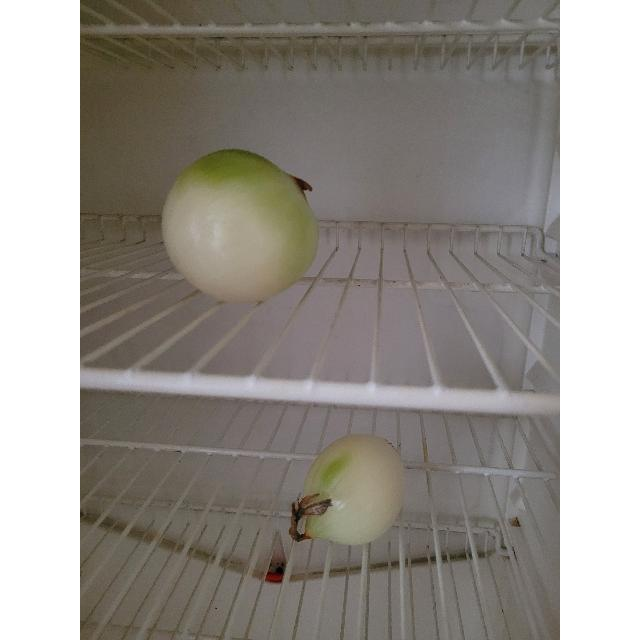onion: (160, 148, 322, 302), (288, 434, 404, 548)
